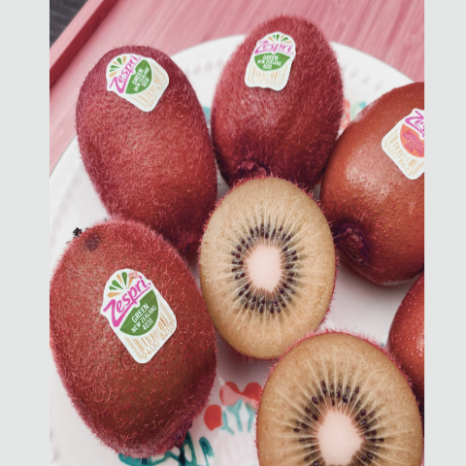kiwi: (41, 200, 237, 456), (76, 22, 215, 266), (202, 10, 357, 200)
